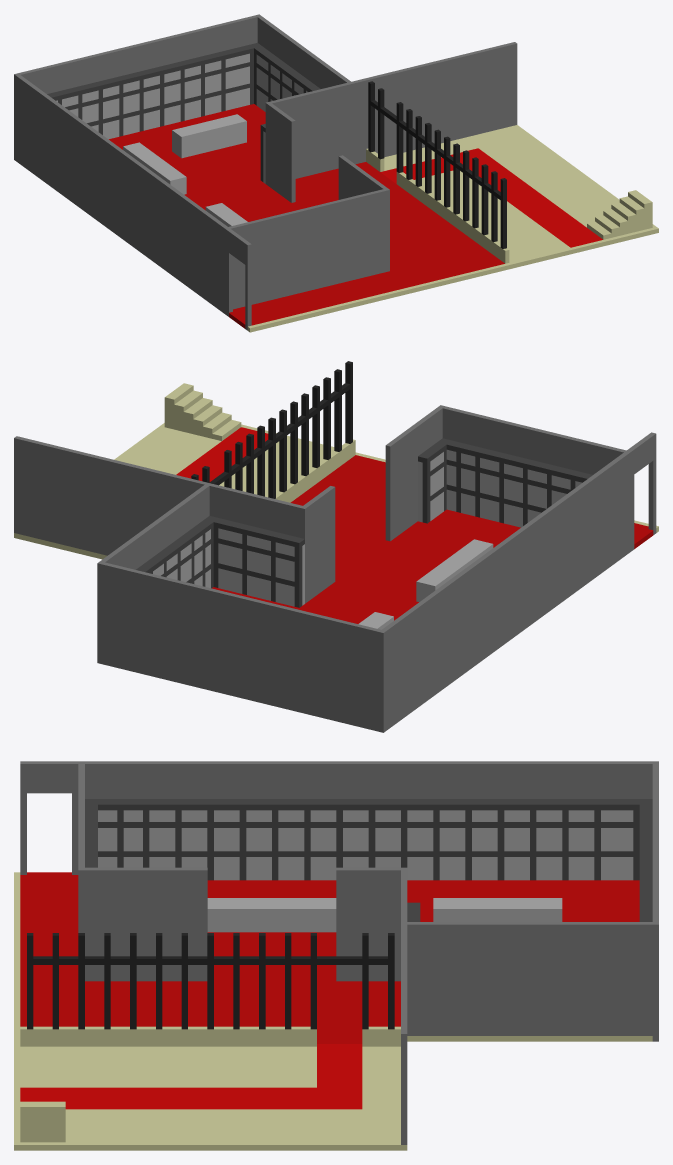
File: Bank-6.obj
3 views of the same model, one above another, from view 1: azimuth 30°, elevation 25°; view 2: azimuth 150°, elevation 25°; view 3: azimuth 270°, elevation 25° (orthographic). The views are drawn at different scales.
Parts seen in each view (by area): view 1: Bank-6; view 2: Bank-6; view 3: Bank-6.
Boxes of the visible parts, x1,y1,x2,y2 form: Bank-6: (14, 14, 658, 332); Bank-6: (14, 361, 658, 732); Bank-6: (14, 761, 658, 1150).
Bounding box in the file's own units: 100 × 20 × 100.
